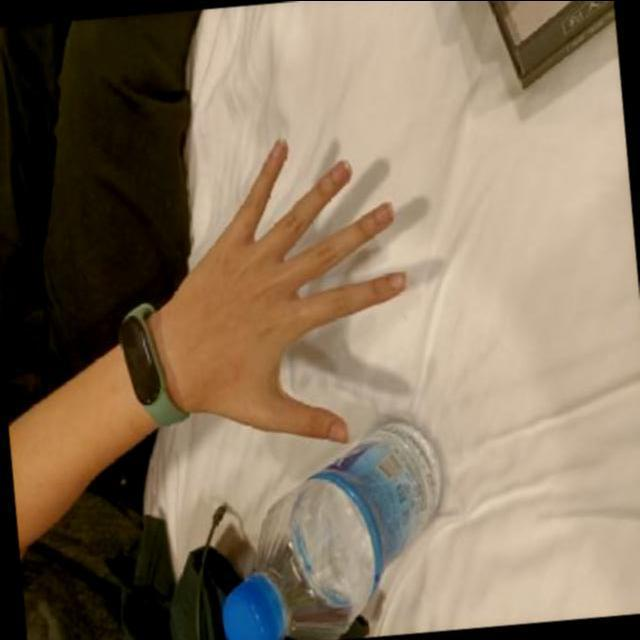hand: (117, 135, 412, 462)
